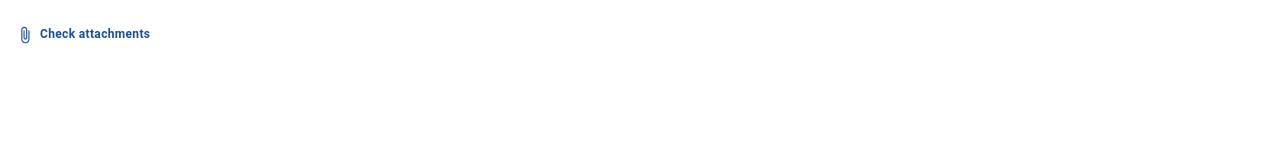
Test: TicketCommentAttachments › leaves the check available after an error
Click the button "Check attachments".
click(83, 35)  # box [8, 17, 158, 53]
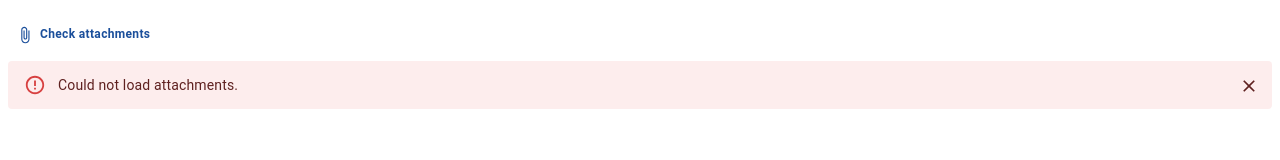
Result: the message reads "Could not load attachments." at [58, 77, 238, 93]
Click the button "Check attachments".
click(83, 35)  # box [8, 17, 158, 53]
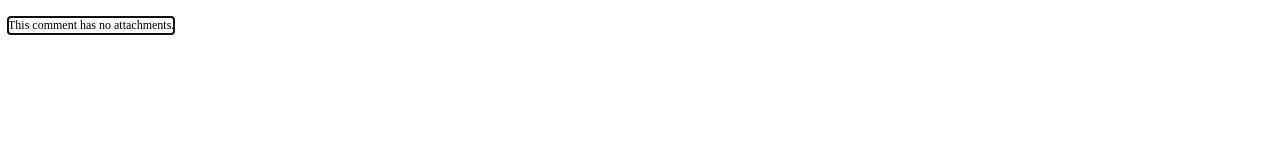
Result: the message reads "This comment has no attachments." at [8, 18, 174, 32]
